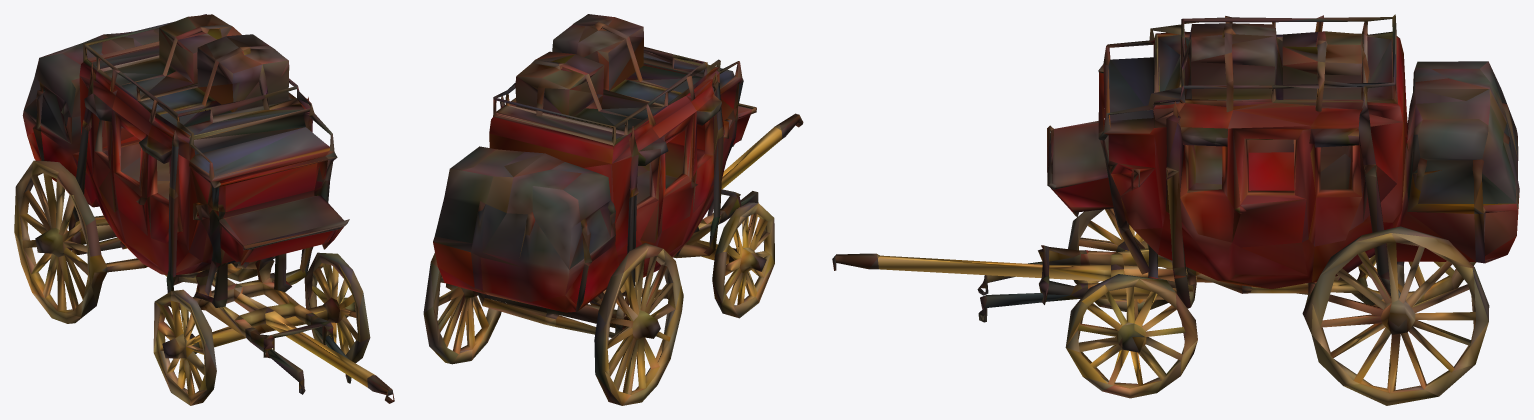
Rendered from stagecoach.glb.
3 views of the same model, side by side, from view 1: azimuth 30°, elevation 25°; view 2: azimuth 150°, elevation 25°; view 3: azimuth 270°, elevation 25° (orthographic). The views are drawn at different scales.
Parts seen in each view (by area): view 1: LO.001; view 2: LO.001; view 3: LO.001.
Part boxes in pixels (x1=…): LO.001: x1=14, y1=14, x2=394, y2=405; LO.001: x1=423, y1=14, x2=803, y2=405; LO.001: x1=832, y1=14, x2=1519, y2=405.
Bounding box in the file's own units: 2.4 × 3.25 × 5.96.
Materials: 1 (1 with a texture image).
